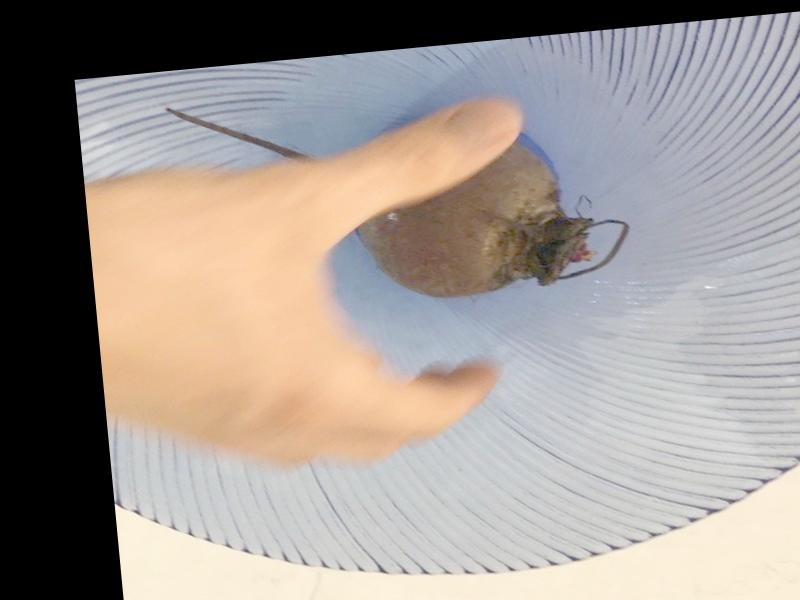Beet: (166, 66, 634, 323)
